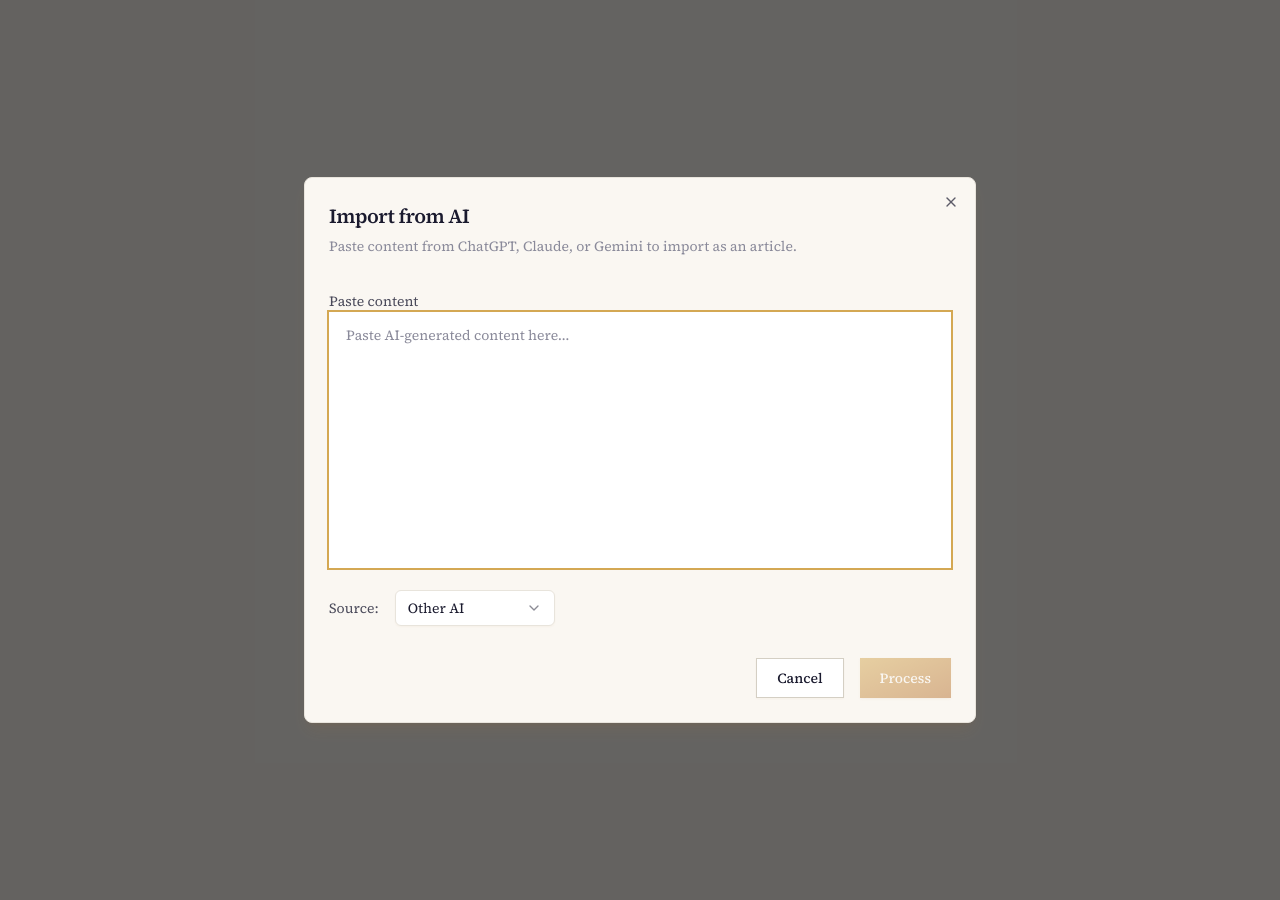
Scenario: ImportModal › Content Input › enables Process button when content is entered
Expected: the button "Process" is disabled, [860,658,951,698]
Type "Test content" into the text box at (640, 440), box [329,312,951,568]
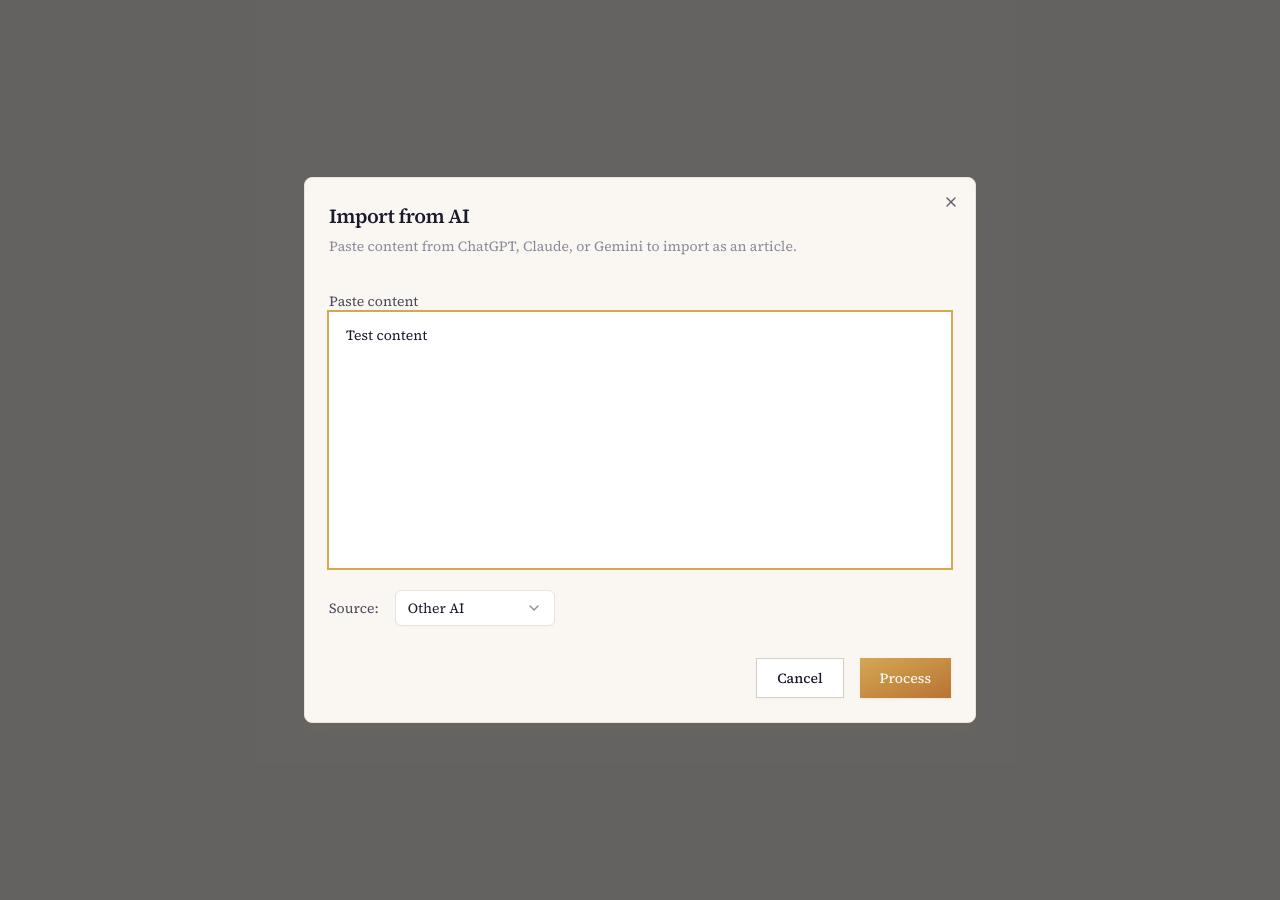
Expected: the button "Process" is enabled, [860,658,951,698]
